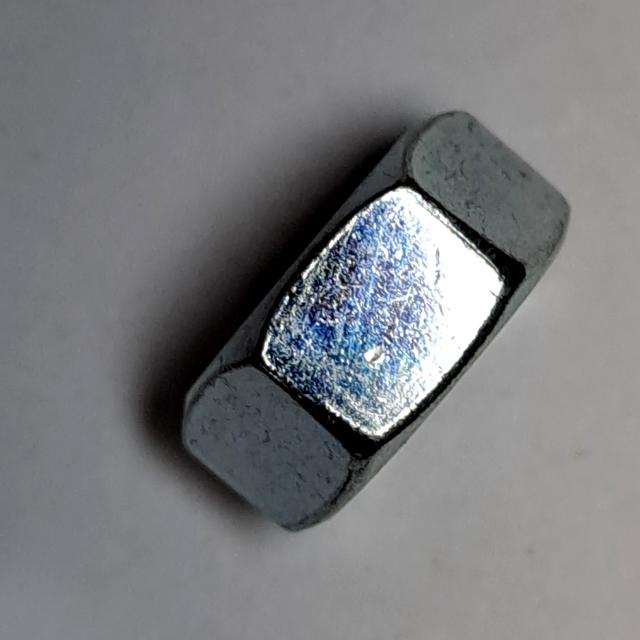Side_Excellent: (173, 87, 587, 548)
